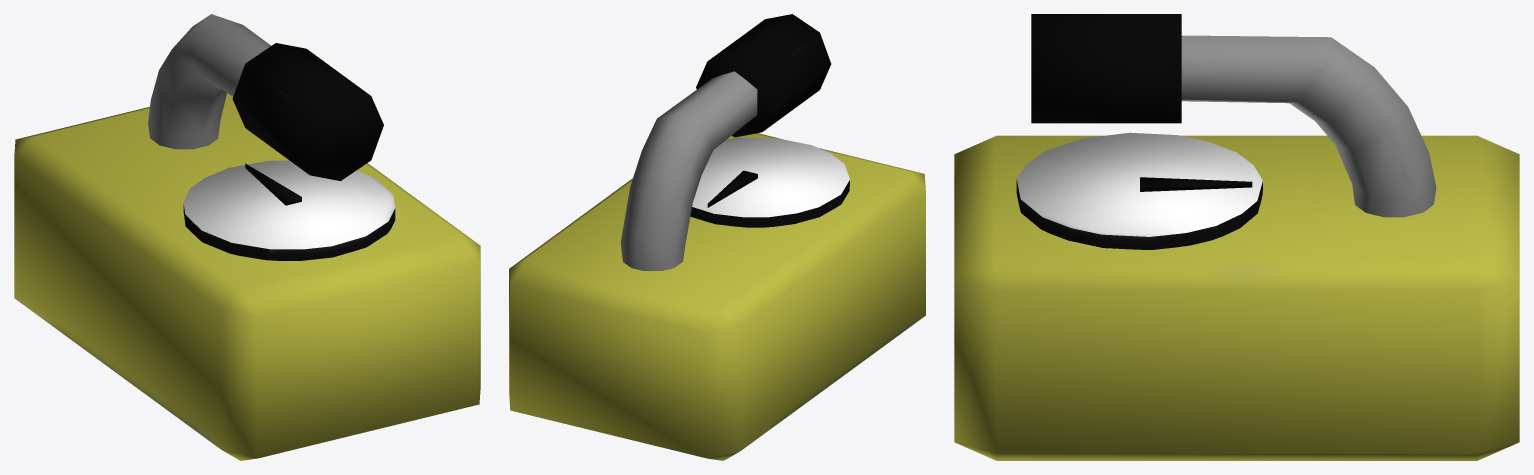
Rendered from geiger_counter.fbx.
The picture shows the model from 3 angles, left to right: view 1: azimuth 30°, elevation 25°; view 2: azimuth 150°, elevation 25°; view 3: azimuth 270°, elevation 25°; orthographic projection. The views are drawn at different scales.
Visible parts, largest first — view 1: Plane; view 2: Plane; view 3: Plane.
Part boxes in pixels (bbox=[...]): Plane: bbox=[14, 14, 480, 460]; Plane: bbox=[509, 14, 925, 460]; Plane: bbox=[954, 14, 1519, 460].
Bounding box in the file's own units: 125 × 153 × 203.
1 material, 1 textured.
